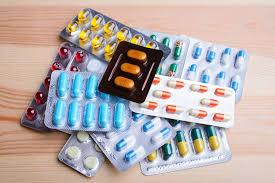pill_Strip: (138, 29, 249, 101), (21, 42, 106, 131), (60, 8, 170, 58), (130, 75, 234, 127), (45, 71, 131, 131), (140, 122, 231, 174), (90, 115, 175, 170), (181, 37, 248, 101), (99, 41, 162, 102), (137, 29, 189, 77), (138, 29, 189, 73), (58, 131, 104, 176), (21, 81, 51, 131), (60, 43, 106, 72), (144, 140, 180, 174), (69, 47, 107, 73), (141, 149, 180, 174), (21, 105, 49, 131), (144, 121, 170, 144), (140, 30, 177, 43), (108, 54, 122, 80), (141, 63, 154, 90), (191, 128, 204, 153), (113, 75, 134, 90), (206, 126, 219, 149), (114, 103, 126, 127), (116, 135, 134, 151), (127, 49, 147, 63), (84, 75, 96, 98), (125, 147, 143, 162), (151, 128, 169, 143), (98, 103, 109, 127), (53, 100, 64, 124), (71, 74, 82, 97), (144, 30, 168, 40), (121, 63, 139, 75), (143, 120, 160, 132), (58, 74, 67, 96), (66, 146, 80, 159), (161, 141, 171, 159), (188, 108, 207, 117), (205, 46, 215, 61), (187, 64, 197, 79), (153, 90, 171, 98), (174, 41, 182, 59), (190, 84, 207, 92), (153, 90, 170, 98), (201, 98, 218, 106), (166, 105, 183, 113), (192, 43, 201, 58), (231, 75, 240, 90), (201, 69, 210, 83), (216, 71, 225, 85), (142, 101, 157, 109), (167, 81, 184, 88), (213, 113, 229, 120), (35, 91, 44, 103), (168, 63, 176, 76), (215, 88, 229, 95), (132, 113, 144, 120), (147, 151, 156, 160), (152, 76, 159, 83), (59, 130, 73, 133), (150, 35, 156, 39), (64, 102, 65, 108), (214, 162, 215, 163)
